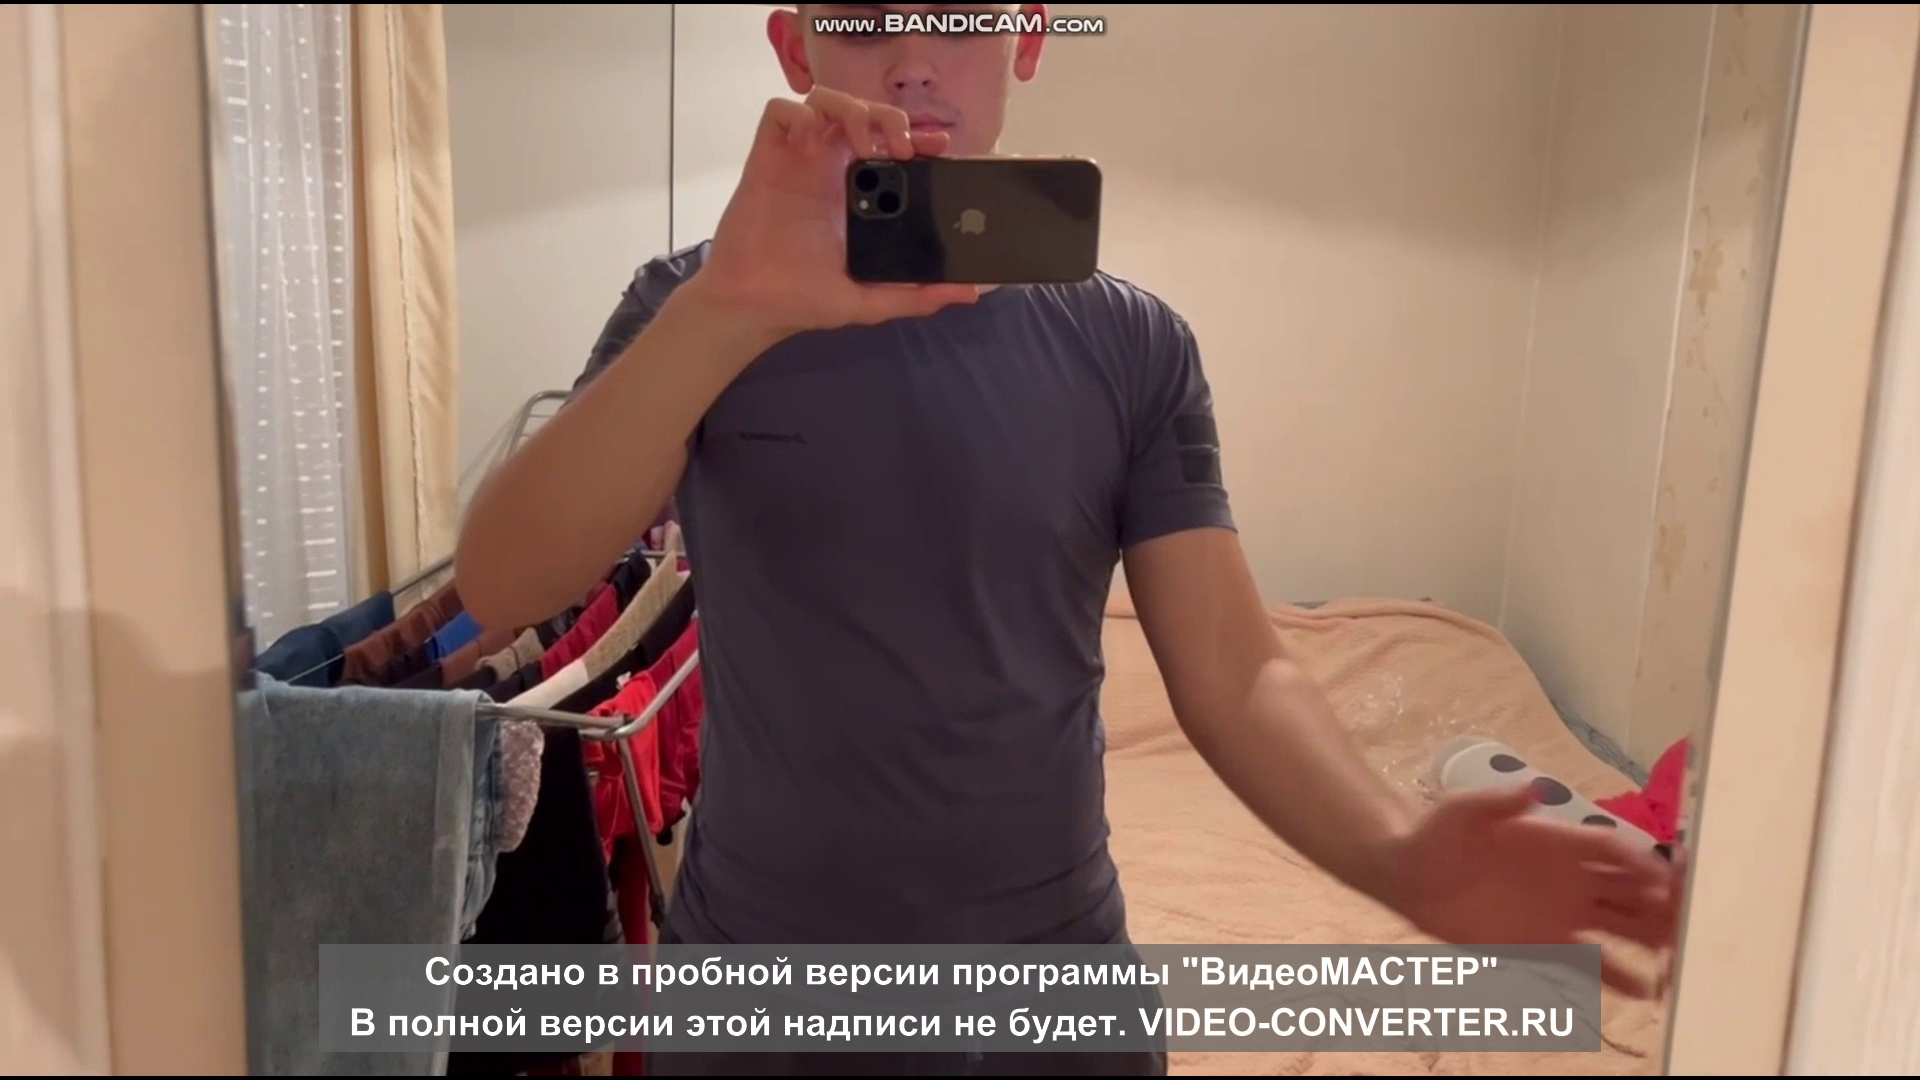Ладонь: (1414, 778, 1679, 947)
